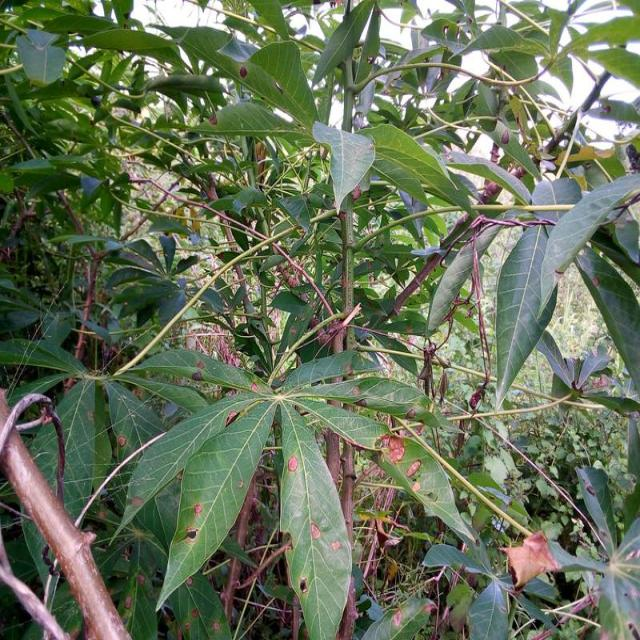cassava leaf: (154, 393, 276, 612), (278, 398, 352, 638), (311, 120, 375, 214)
